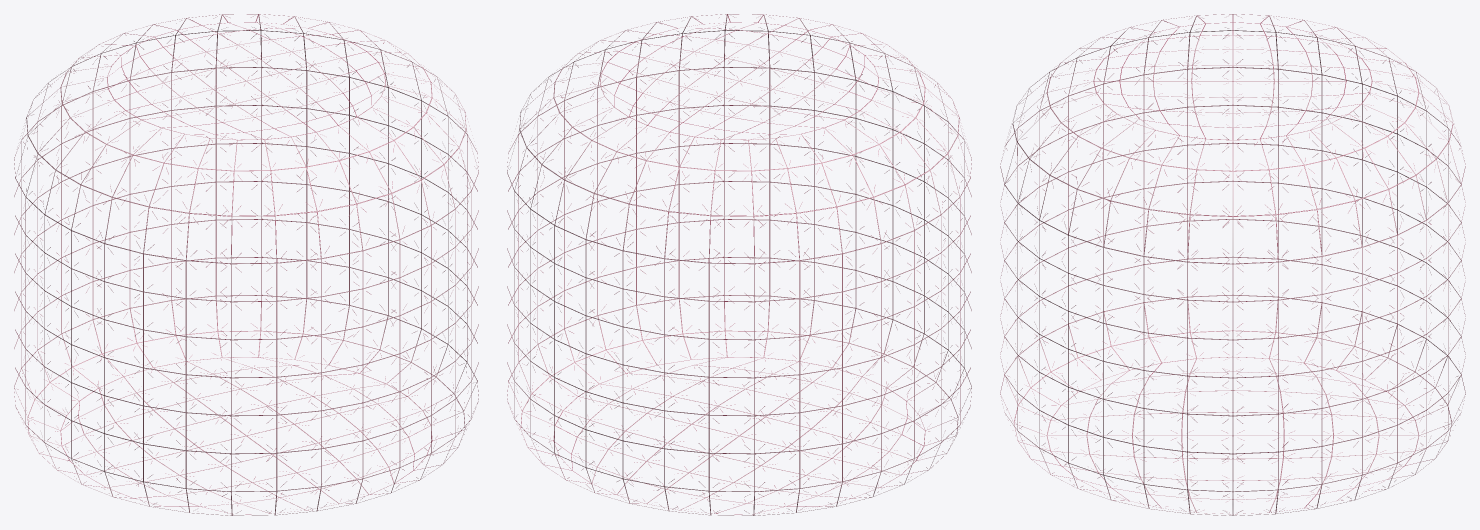
Rendered from LoadingCage.fbx.
3 views of the same model, side by side, from view 1: azimuth 30°, elevation 25°; view 2: azimuth 150°, elevation 25°; view 3: azimuth 270°, elevation 25° (orthographic).
Visible parts, largest first — view 1: LoadingCage; view 2: LoadingCage; view 3: LoadingCage.
Part boxes in pixels (<box>): LoadingCage: <box>14,14,478,515</box>; LoadingCage: <box>507,14,971,515</box>; LoadingCage: <box>1000,14,1465,515</box>.
Size of the model in its own units: 5 by 4.2 by 5.
1 material, 1 textured.
